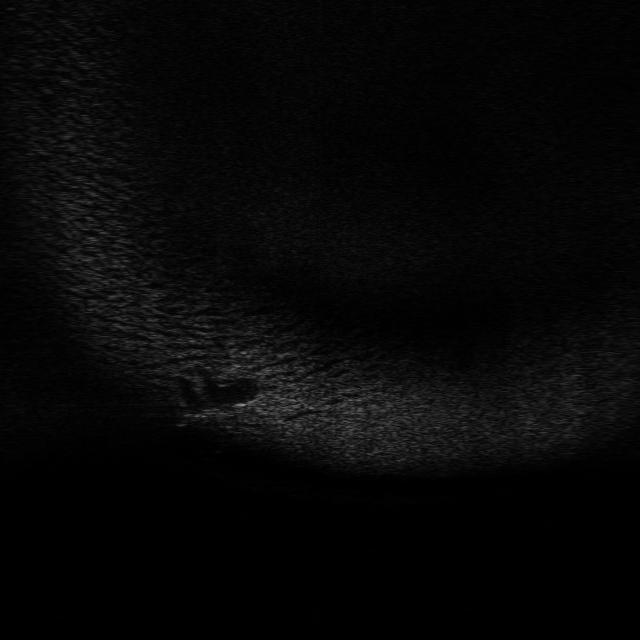plane: (173, 402, 238, 426)
